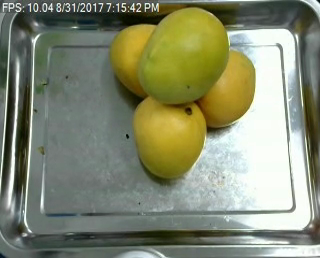Mango: (138, 7, 233, 106), (134, 95, 208, 180), (191, 47, 255, 126), (107, 22, 171, 98)
